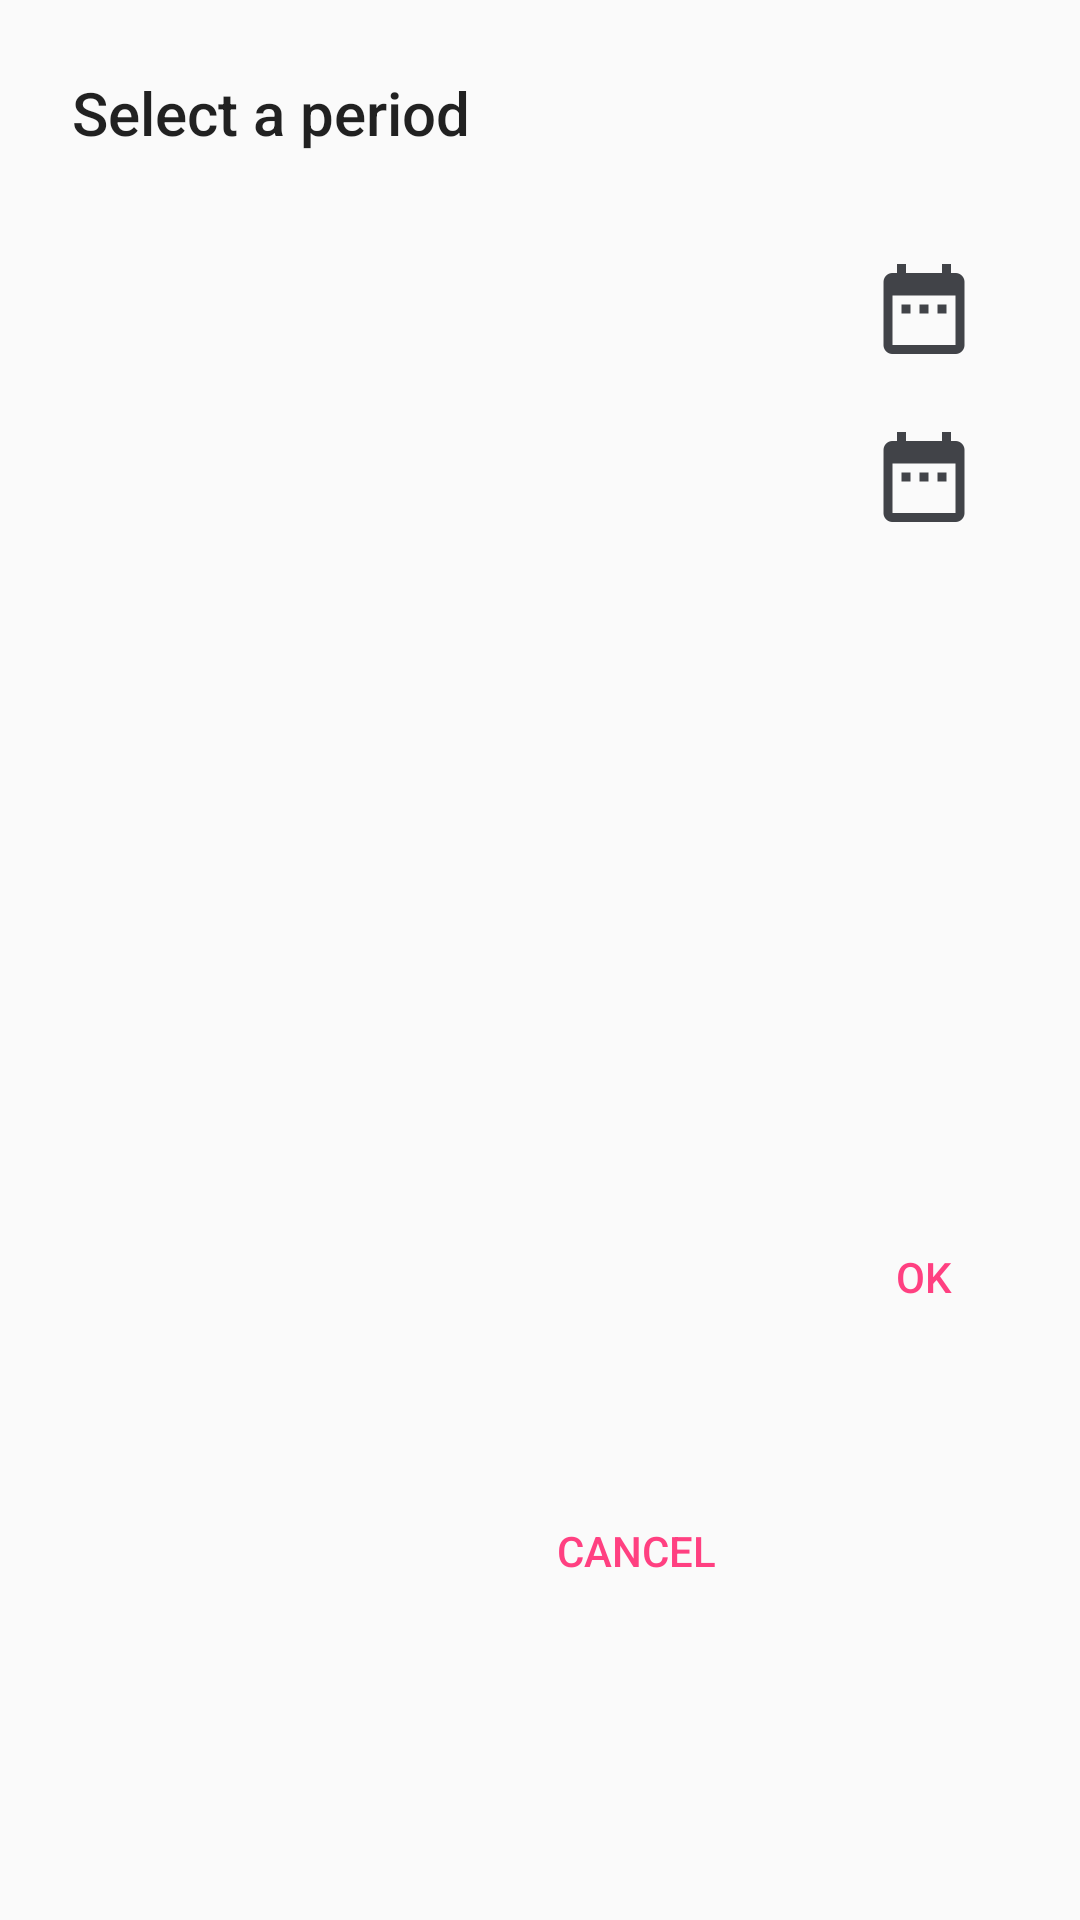

Icons on this 1080px×1920px Android screen, each with the point to tap as point (x, y):
date range: point (924, 309), point (924, 477)
